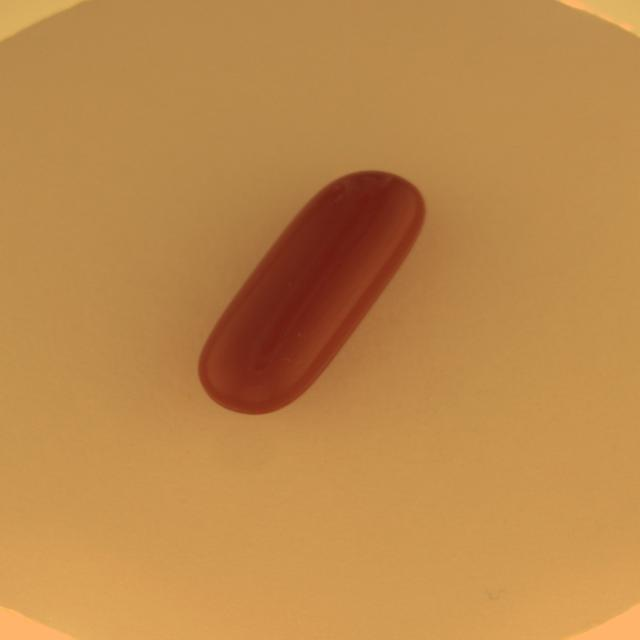Oval: (194, 167, 428, 420)
